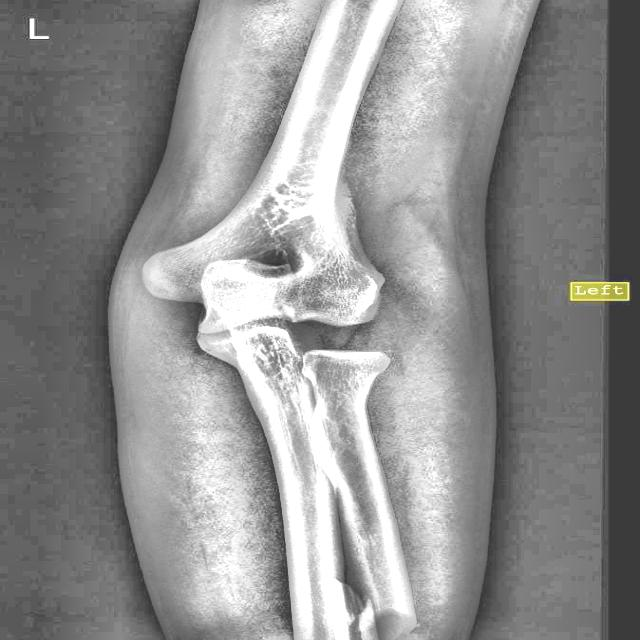messed_up_angle: (326, 570, 418, 640)
